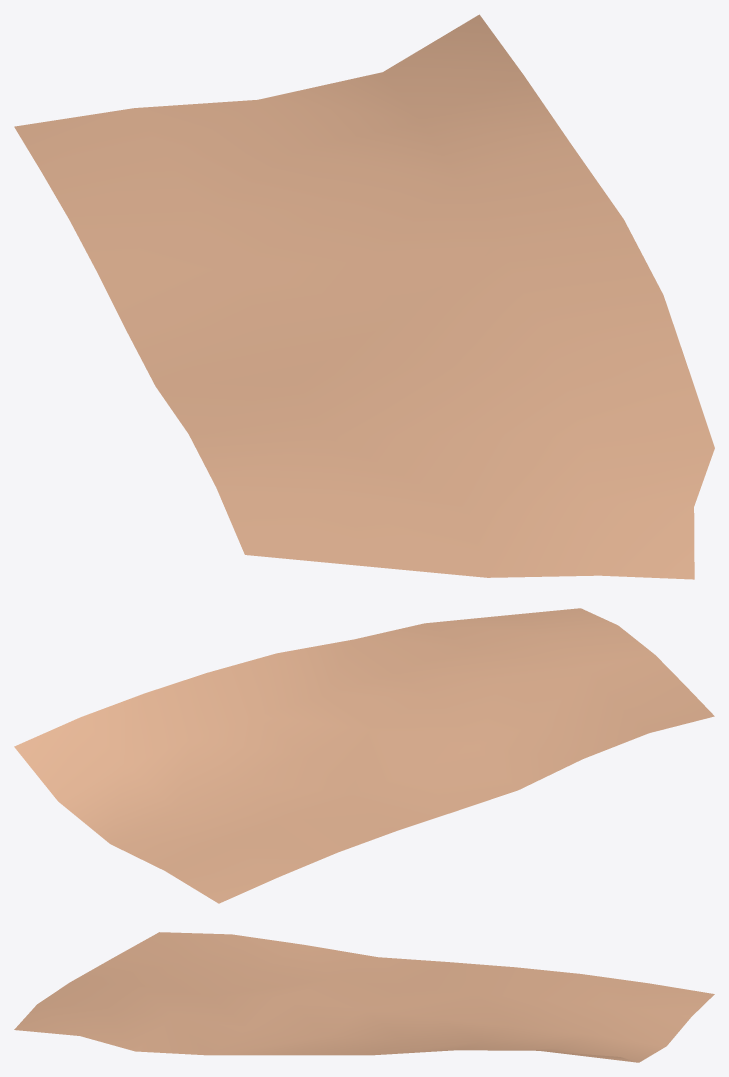
Rendered from sole-r.glb.
The picture shows the model from 3 angles, top to bottom: view 1: azimuth 30°, elevation 25°; view 2: azimuth 150°, elevation 25°; view 3: azimuth 270°, elevation 25°; orthographic projection. The views are drawn at different scales.
Parts seen in each view (by area): view 1: Sole.r; view 2: Sole.r; view 3: Sole.r.
Part boxes in pixels (bbox=[...]): Sole.r: bbox=[14, 14, 714, 579]; Sole.r: bbox=[14, 608, 714, 903]; Sole.r: bbox=[14, 932, 714, 1062].
Size of the model in its own units: 0.0616 by 0.00972 by 0.1022.
